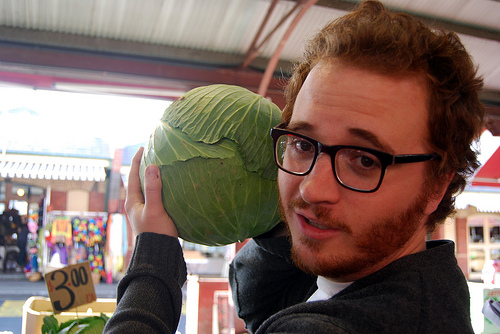cabbage: (140, 83, 285, 245)
